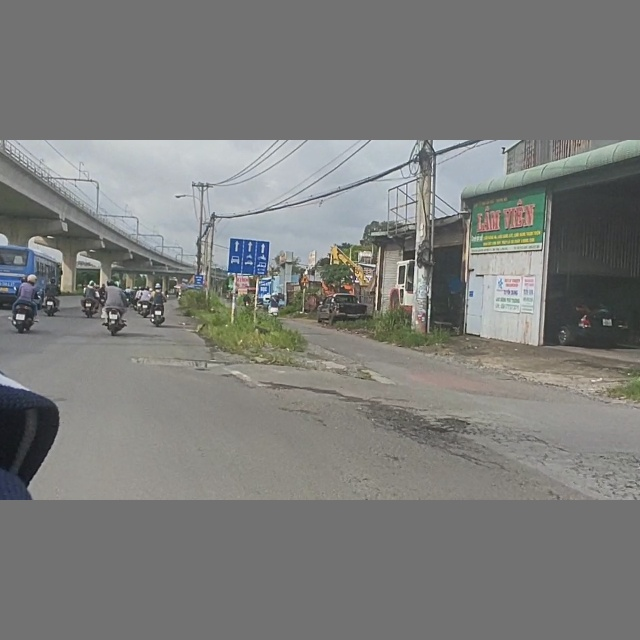R.415a: (227, 235, 272, 277)
